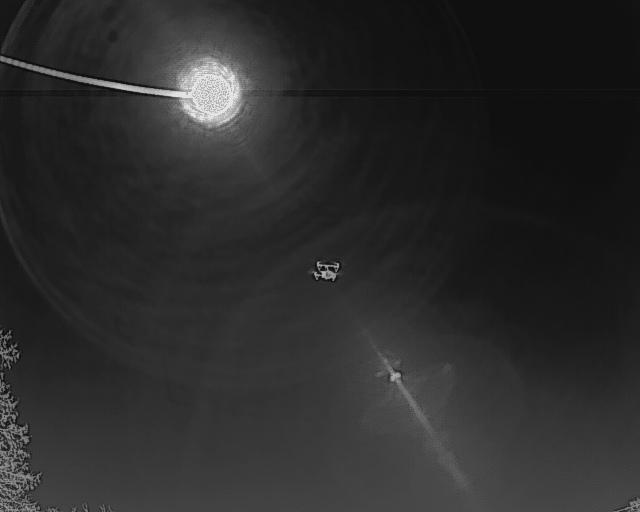drone: (303, 256, 342, 288)
